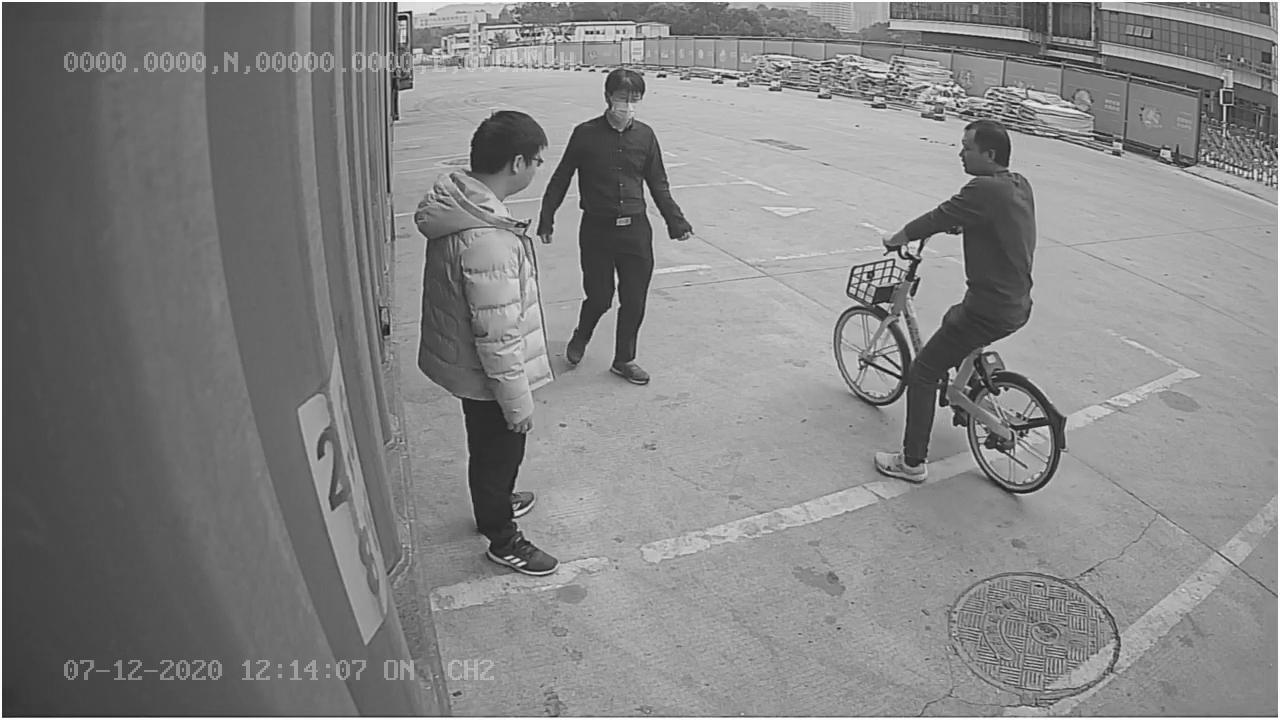person: (412, 101, 562, 579)
